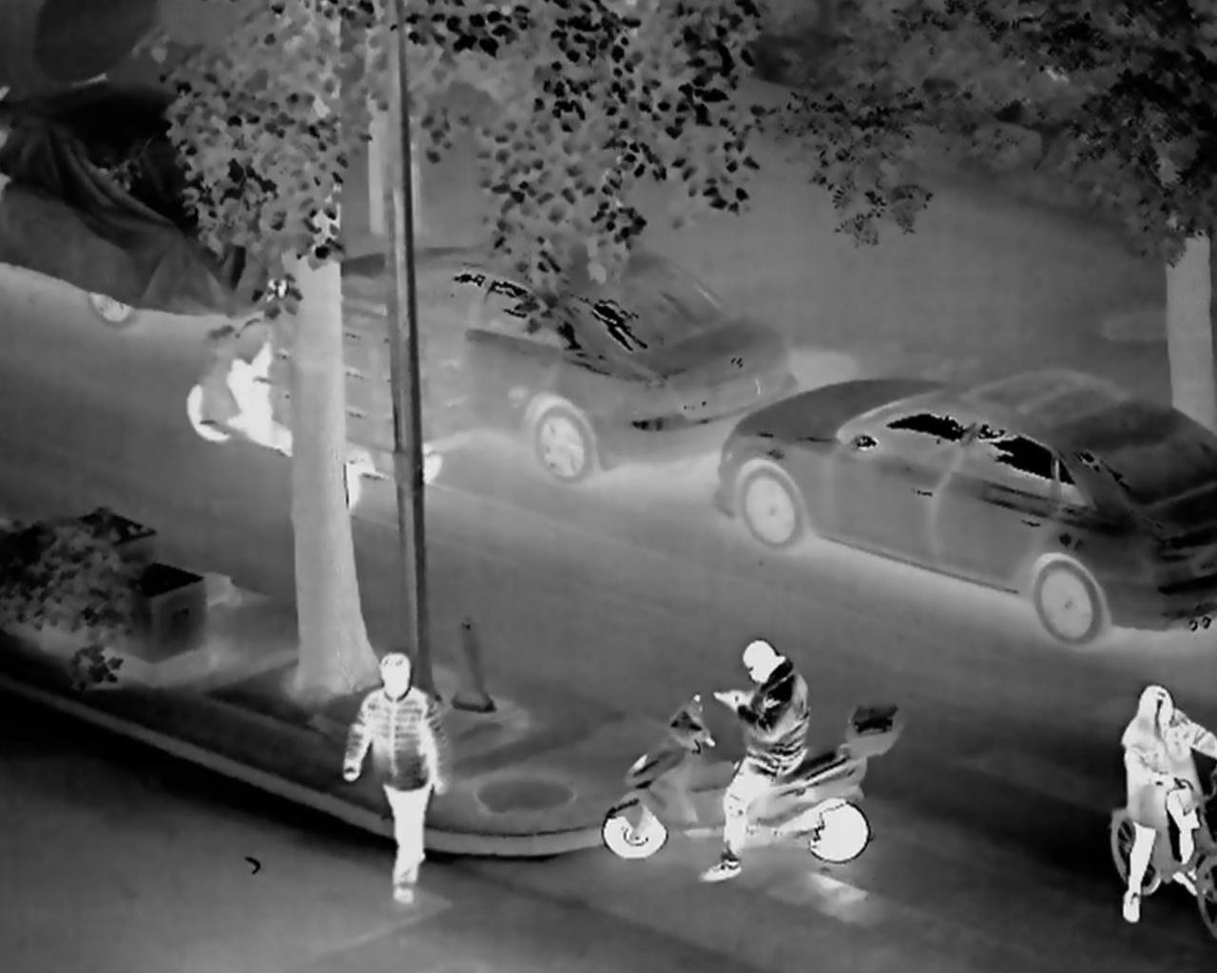person: (687, 633, 823, 906), (334, 647, 474, 901), (1091, 673, 1217, 906), (227, 327, 275, 440)
